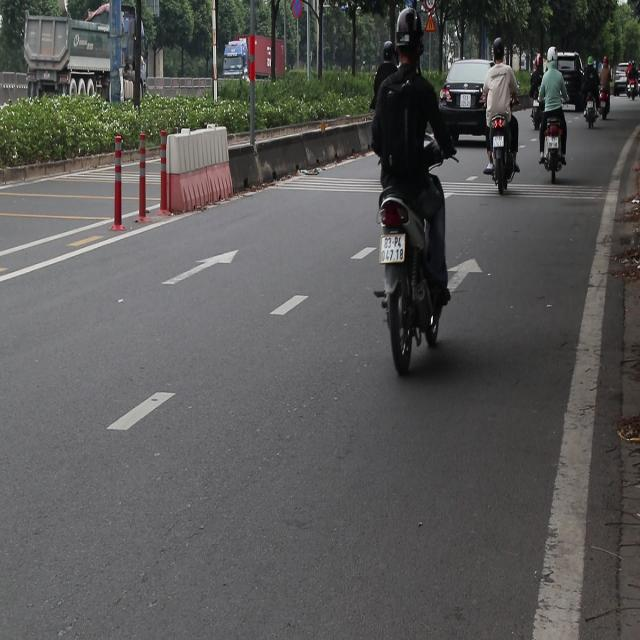car: (439, 59, 491, 144), (556, 51, 586, 103)
motorbike: (372, 187, 460, 383), (484, 108, 517, 202), (533, 108, 562, 194), (528, 77, 547, 143), (584, 88, 608, 127), (599, 72, 613, 135), (626, 63, 638, 102)
truck: (10, 12, 155, 114), (212, 36, 285, 105)
